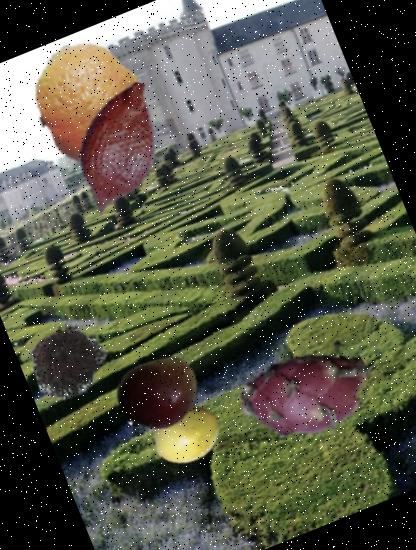Mandarine: (7, 21, 170, 184)
Mango: (102, 336, 214, 448)
Maracuja: (142, 389, 232, 479)
Pitahaya: (226, 312, 393, 480)
Rambutan: (19, 308, 122, 412)
Salak: (29, 58, 209, 238)
